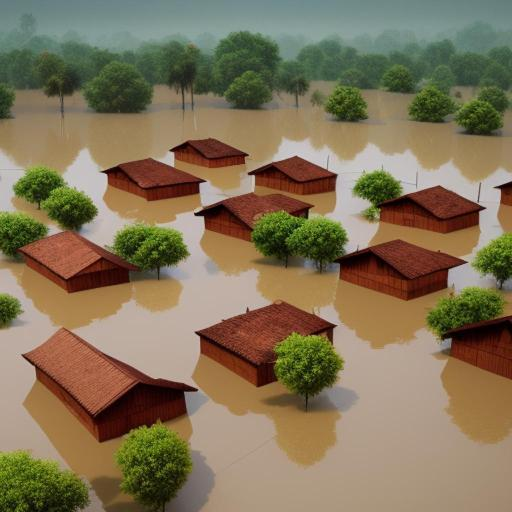flood: (0, 160, 512, 512), (0, 82, 512, 258)
house: (21, 327, 199, 443), (193, 296, 339, 390), (331, 237, 463, 307), (16, 227, 139, 295), (192, 186, 316, 242), (98, 155, 209, 209), (384, 183, 476, 242), (449, 319, 512, 384), (247, 156, 336, 202), (171, 136, 249, 170), (492, 177, 512, 207)
